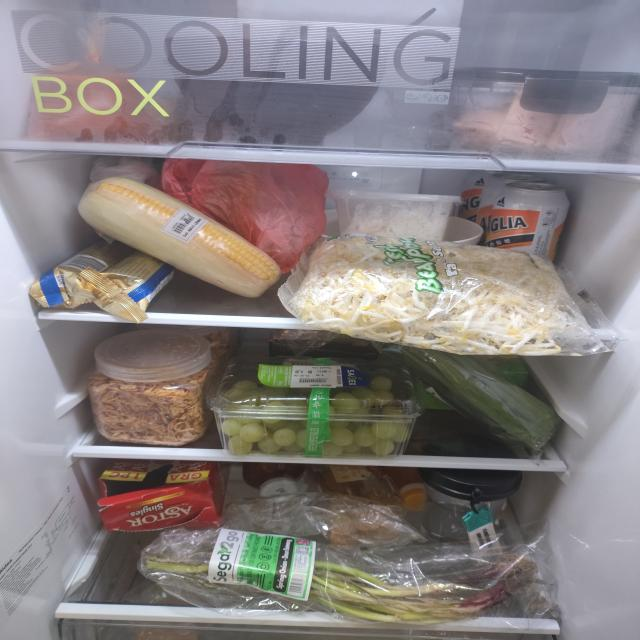bean_sprouts: (292, 234, 572, 358)
corn: (77, 177, 283, 299)
grape: (221, 375, 412, 455)
spring_onion: (147, 556, 540, 624)
